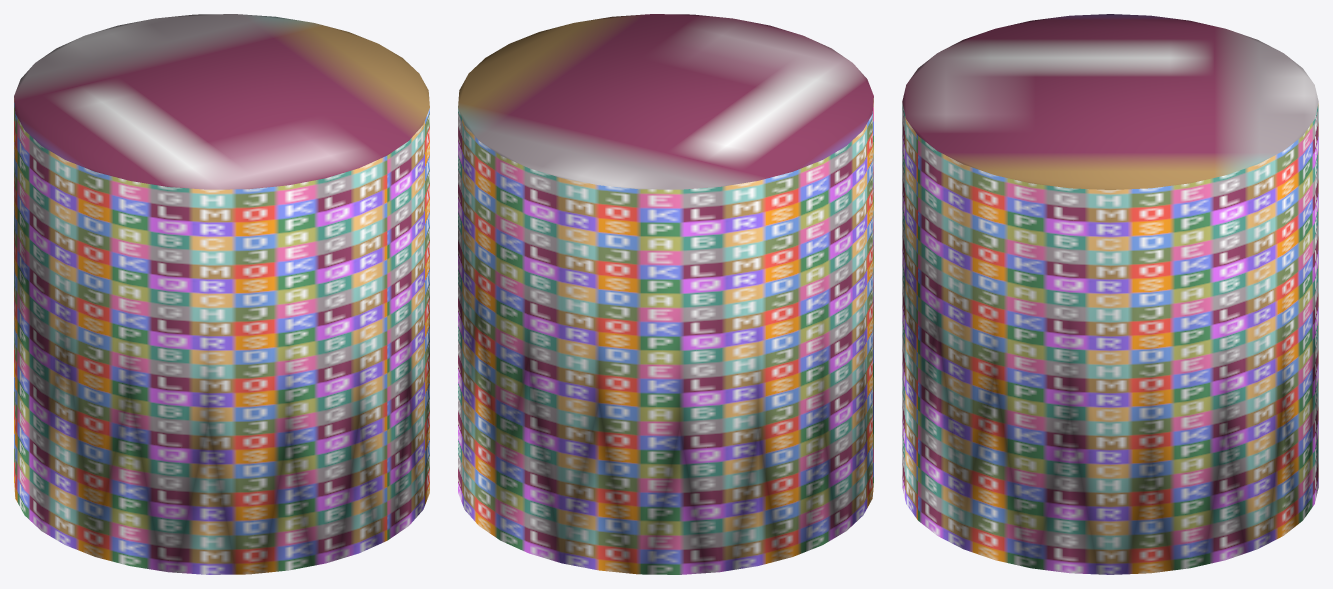
File: beam.obj
3 renders of one model, left to right at view 1: azimuth 30°, elevation 25°; view 2: azimuth 150°, elevation 25°; view 3: azimuth 270°, elevation 25°, orthographic.
Visible parts, largest first — view 1: Cylinder1; view 2: Cylinder1; view 3: Cylinder1.
Boxes of the visible parts, x1,y1,x2,y2 form: Cylinder1: [14, 14, 429, 574]; Cylinder1: [458, 14, 873, 574]; Cylinder1: [902, 14, 1318, 574].
Size of the model in its own units: 1.96 by 2 by 1.96.
